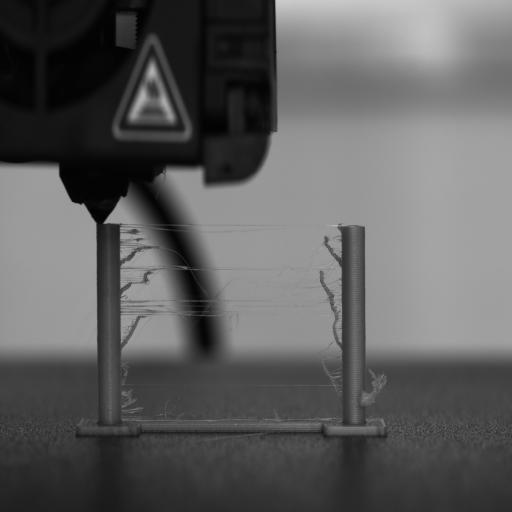spaghetti_and_stringing: (118, 216, 343, 353)
